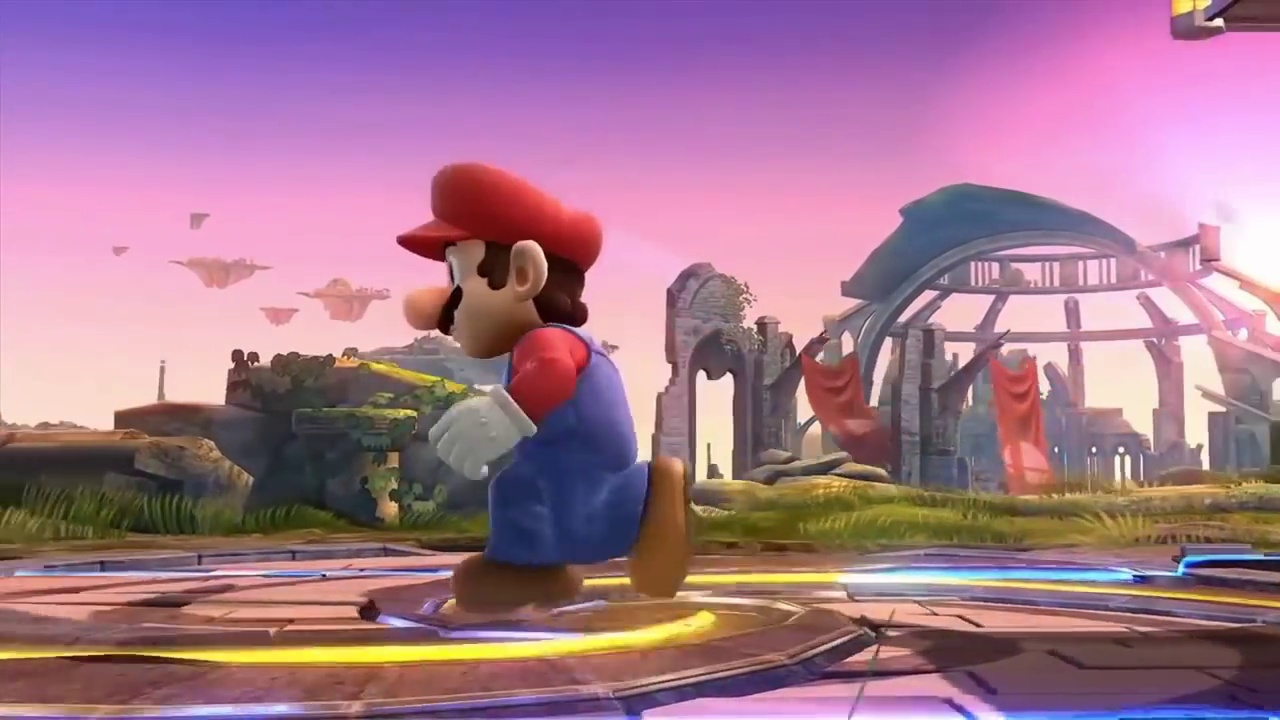Mario: (396, 162, 691, 611)
